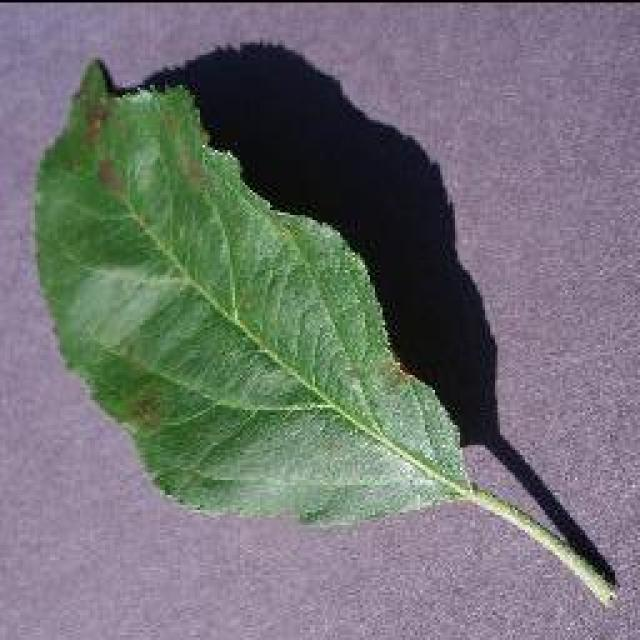apple scab disease: (30, 38, 620, 610)
